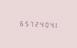five: (22, 19, 26, 27)
four: (37, 19, 41, 28), (47, 20, 51, 28)
one: (52, 20, 56, 28)
seven: (27, 19, 31, 27)
six: (17, 18, 21, 27)
two: (32, 19, 36, 27)
zero: (42, 20, 46, 28)
